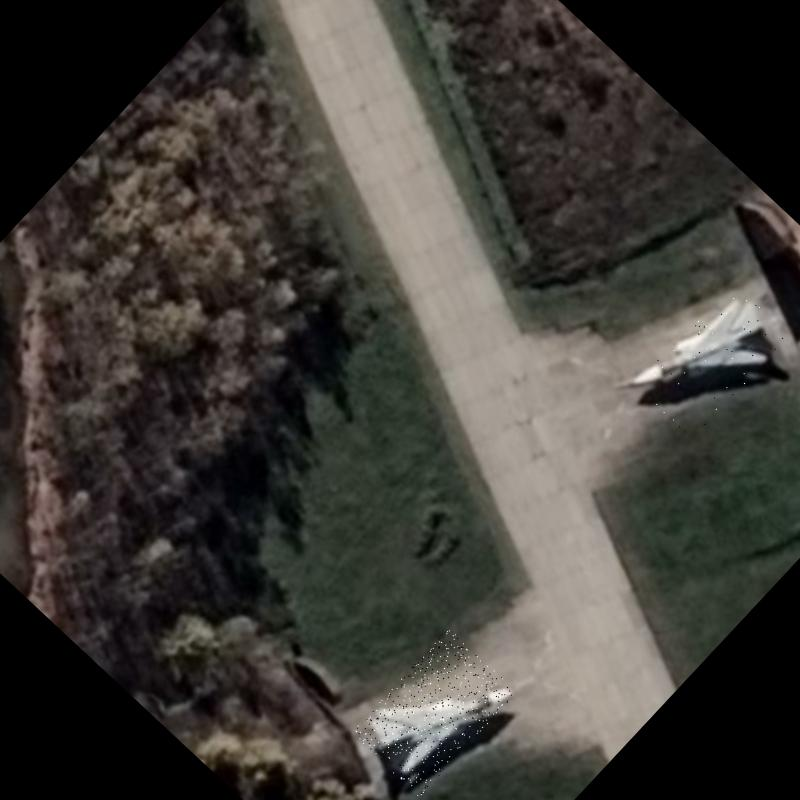A20: (350, 628, 517, 798), (626, 275, 792, 442)
